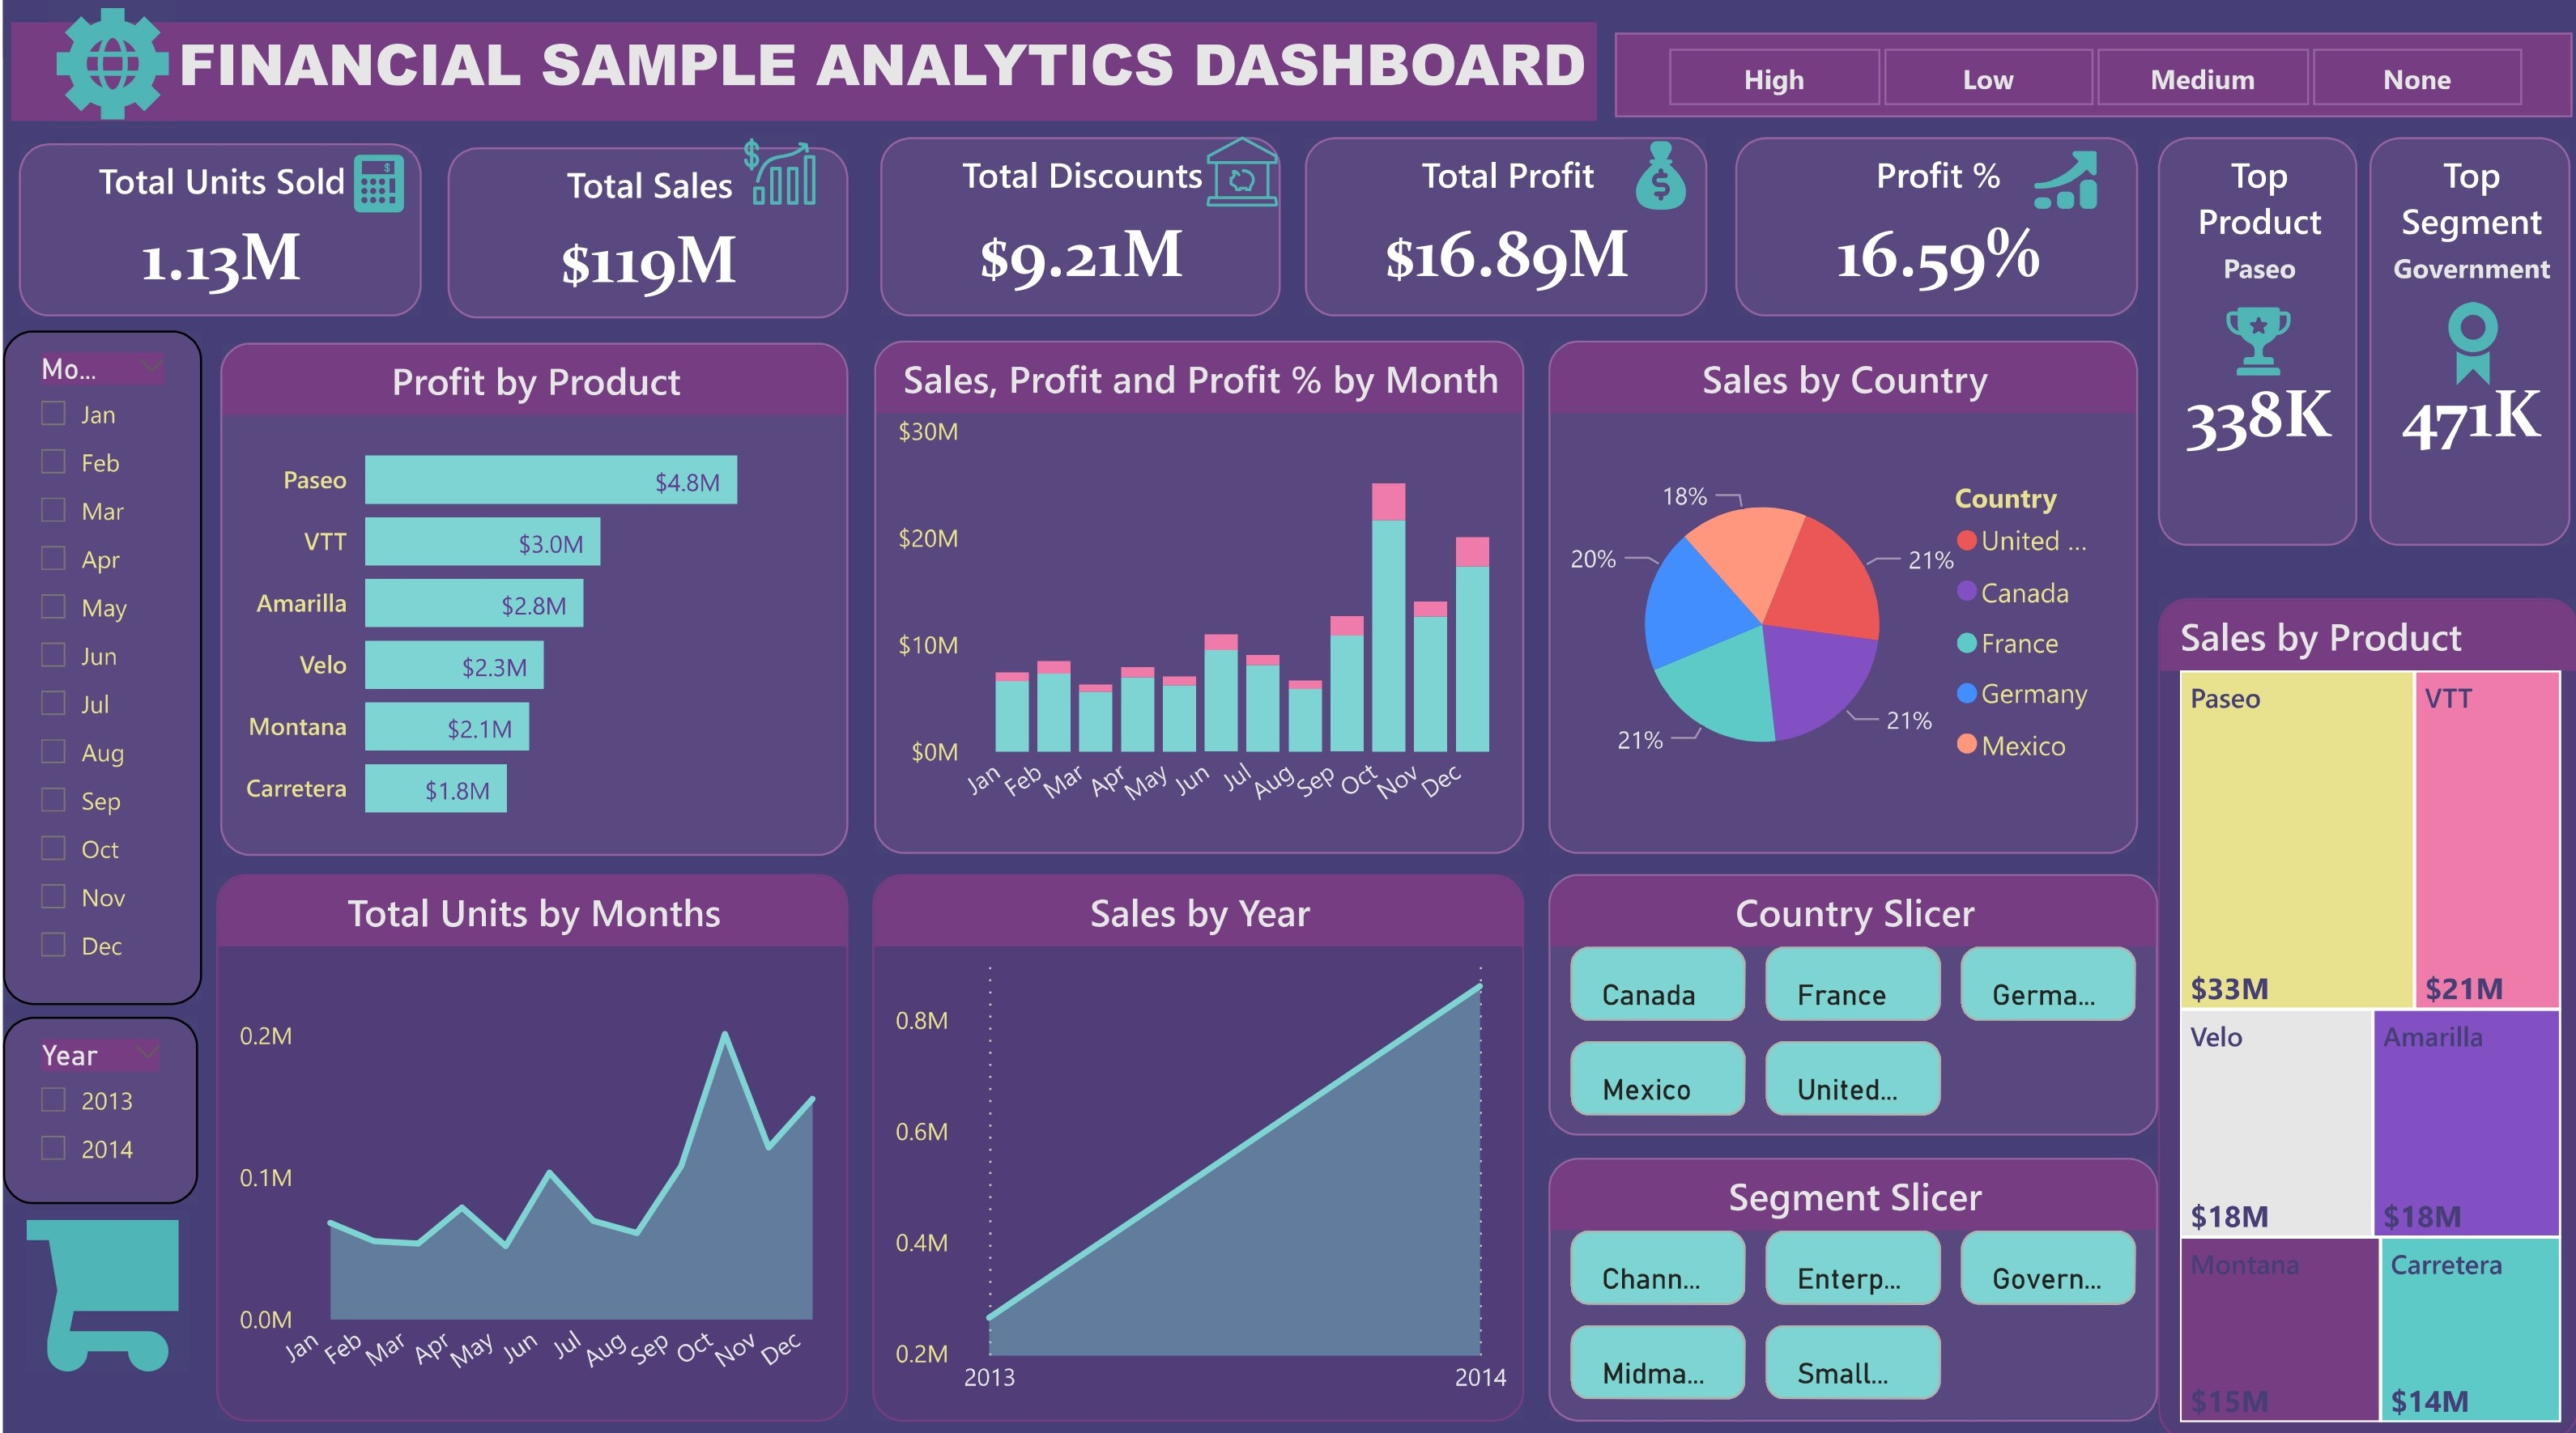

The page's visual inventory and layout, read from the dashboard file:
{"tool":"powerbi","page":{"name":"Page 1","canvas":[1280,720],"ordinal":0},"visuals":[{"type":"card","title":"Total Units Sold","fields":{"Values":["Sum(Financial_sample.Units Sold)"]},"box":[8.2,76.3,199.7,85.7],"z":0},{"type":"card","title":"Total Sales","fields":{"Values":["Sum(Financial_sample. Sales)"]},"box":[220.8,77.5,199.7,85.7],"z":1000},{"type":"card","title":"Profit %","fields":{"Values":["Financial_sample.Profit %"]},"box":[860.9,72.8,199.7,89.3],"z":2000},{"type":"card","title":"Total Profit","fields":{"Values":["Sum(Financial_sample.Profit)"]},"box":[647.2,72.8,199.7,89.3],"z":3000},{"type":"card","title":"Total Discounts","fields":{"Values":["Sum(Financial_sample.Discounts)"]},"box":[435.8,72.8,199.7,89.3],"z":4000},{"type":"slicer","fields":{"Values":["Financial_sample.Month Name"]},"box":[0,169.1,98.7,334.7],"z":5000},{"type":"slicer","fields":{"Values":["Financial_sample.Discount Band"]},"box":[801,21.1,475.7,42.3],"z":6000},{"type":"columnChart","title":"Sales, Profit and Profit % by Month","fields":{"Y":["Sum(Financial_sample. Sales)","Sum(Financial_sample.Profit)"],"Category":["Financial_sample.Month Name"]},"box":[433.4,173.8,323,254.9],"z":7000},{"type":"treemap","title":"Sales by Product","fields":{"Group":["Financial_sample.Product"],"Values":["Sum(Financial_sample. Sales)"]},"box":[1071.2,301.9,209.1,418.1],"z":8000},{"type":"barChart","title":"Profit by Product","fields":{"Y":["Sum(Financial_sample.Profit)"],"Category":["Financial_sample.Product"]},"box":[108.1,175,312.4,254.9],"z":9000},{"type":"card","title":"Top Product ","fields":{"Values":["Sum(Financial_sample.Units Sold)"]},"box":[1071.2,72.8,98.7,203.2],"z":10000},{"type":"card","title":"Top Segment","fields":{"Values":["Sum(Financial_sample.Units Sold)"]},"box":[1175.7,72.8,99.8,203.2],"z":11000},{"type":"areaChart","title":"Total Units by Months","fields":{"Y":["Sum(Financial_sample.Units Sold)"],"Category":["Financial_sample.Month Name"]},"box":[105.7,439.3,314.8,271.3],"z":12000},{"type":"areaChart","title":"Sales by Year","fields":{"Y":["Sum(Financial_sample.Units Sold)"],"Category":["Financial_sample.Year"]},"box":[432.2,439.3,324.2,271.3],"z":13000},{"type":"slicer","fields":{"Values":["Financial_sample.Year"]},"box":[0,509.8,97.5,92.8],"z":14000},{"type":"pieChart","title":"Sales by Country","fields":{"Category":["Financial_sample.Country"],"Y":["Sum(Financial_sample. Sales)"]},"box":[768.2,173.8,292.5,254.9],"z":15000},{"type":"advancedSlicerVisual","title":"Country Slicer","fields":{"Values":["Financial_sample.Country"]},"box":[768.2,439.3,303,130],"z":16000},{"type":"textbox","title":"FINANCIAL SAMPLE ANALYTICS DASHBOARD","box":[3.5,16.4,788.1,48.2],"z":17000},{"type":"image","box":[0,0,108.1,72.8],"z":18000},{"type":"image","box":[1201.6,144.5,51.7,62.3],"z":19000},{"type":"image","box":[1098.2,145.6,45.8,56.4],"z":20000},{"type":"image","box":[165.6,64.6,42.3,62.3],"z":21000},{"type":"image","box":[362.9,63.4,45.8,52.9],"z":22000},{"type":"image","box":[801,63.4,45.8,56.4],"z":23000},{"type":"image","box":[1003.1,66.9,43.5,52.9],"z":24000},{"type":"image","box":[593.1,63.4,45.8,52.9],"z":25000},{"type":"advancedSlicerVisual","title":"Segment Slicer","fields":{"Values":["Financial_sample.Segment"]},"box":[768.2,580.2,303,130.4],"z":26000},{"type":"image","box":[0,601.4,103.4,89.3],"z":27000}]}

Visuals, with their boxes in screenshot pixels (x1, y1, x2, y2), scaled from the page's 1280x720 canvas onto the 2576x1433 screenshot:
"Total Units Sold" card: bbox=(16, 152, 419, 322)
"Total Sales" card: bbox=(445, 155, 846, 325)
"Profit %" card: bbox=(1732, 145, 2135, 322)
"Total Profit" card: bbox=(1302, 145, 1705, 322)
"Total Discounts" card: bbox=(877, 145, 1279, 322)
slicer - Financial_sample.Month Name: bbox=(0, 337, 198, 1003)
slicer - Financial_sample.Discount Band: bbox=(1612, 42, 2570, 126)
"Sales, Profit and Profit % by Month" columnChart: bbox=(872, 346, 1522, 853)
"Sales by Product" treemap: bbox=(2156, 601, 2575, 1432)
"Profit by Product" barChart: bbox=(218, 348, 846, 856)
"Top Product " card: bbox=(2156, 145, 2354, 549)
"Top Segment" card: bbox=(2366, 145, 2567, 549)
"Total Units by Months" areaChart: bbox=(213, 874, 846, 1414)
"Sales by Year" areaChart: bbox=(870, 874, 1522, 1414)
slicer - Financial_sample.Year: bbox=(0, 1014, 196, 1199)
"Sales by Country" pieChart: bbox=(1546, 346, 2135, 853)
"Country Slicer" advancedSlicerVisual: bbox=(1546, 874, 2156, 1133)
"FINANCIAL SAMPLE ANALYTICS DASHBOARD" textbox: bbox=(7, 32, 1593, 129)
image: bbox=(0, 0, 218, 145)
image: bbox=(2418, 287, 2523, 411)
image: bbox=(2210, 290, 2302, 402)
image: bbox=(334, 129, 419, 253)
image: bbox=(730, 126, 823, 232)
image: bbox=(1612, 126, 1704, 239)
image: bbox=(2019, 133, 2106, 239)
image: bbox=(1194, 126, 1286, 232)
"Segment Slicer" advancedSlicerVisual: bbox=(1546, 1154, 2156, 1414)
image: bbox=(0, 1197, 208, 1375)
